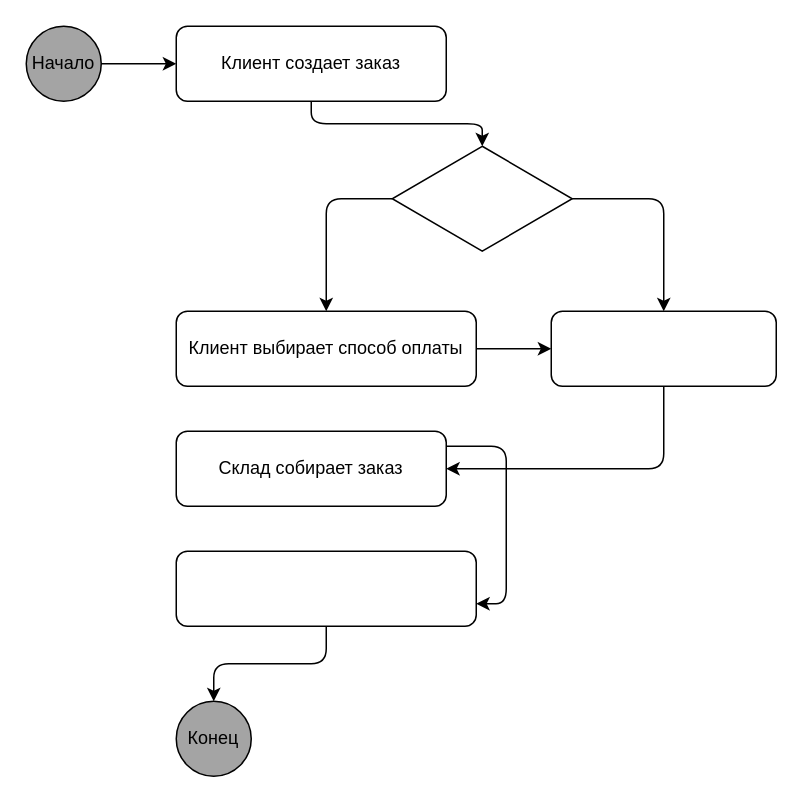
This 803x803 diagram has some shape labels left out. The box of each missing label's shape, as (x1, y1, x2, y2) in pixels:
Онлайн оплата: (550, 310, 776, 386)
Отправка в курьерскую службу: (175, 550, 476, 626)
Система проверяет наличие товаров: (391, 145, 572, 251)
